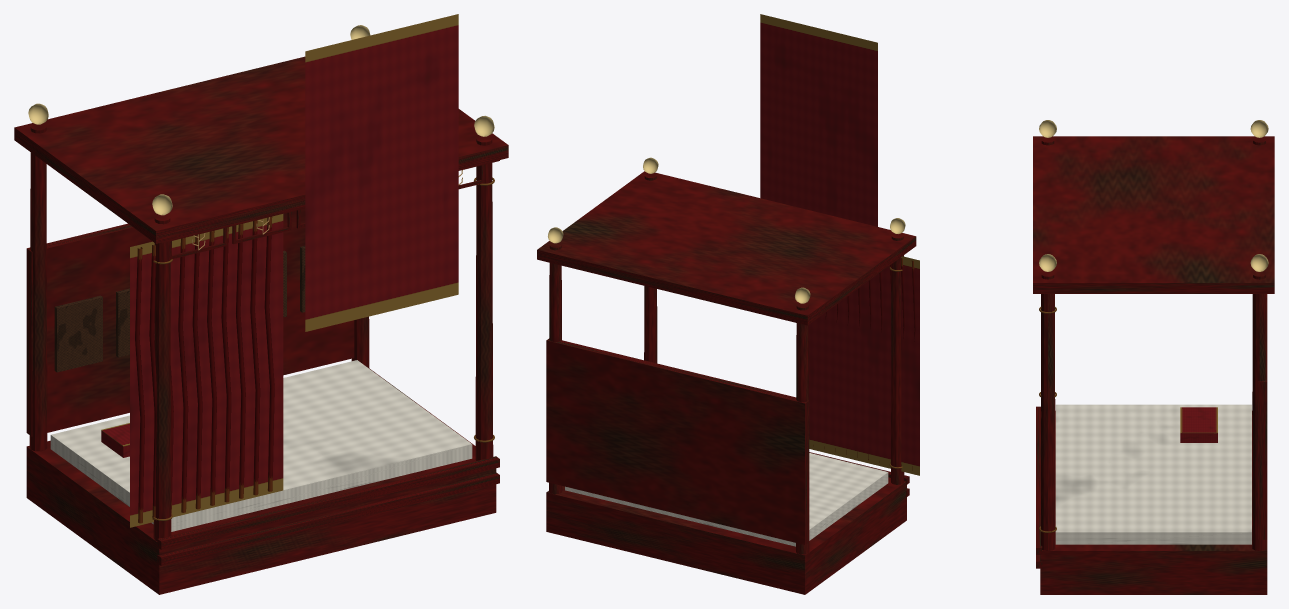
The model's file is bed.glb.
The picture shows the model from 3 angles, left to right: view 1: azimuth 30°, elevation 25°; view 2: azimuth 150°, elevation 25°; view 3: azimuth 270°, elevation 25°; orthographic projection. The views are drawn at different scales.
Visible parts, largest first — view 1: Curtain2, Canopy, Curtain, Mattress, Platform, Backboard, Art_WeddingSilk_Curtain, Art_BurntLacquer, Post_105_70, Post_-105_-70, Post_-105_70, Carve0 (+3 smaller); view 2: Backboard, Canopy, Curtain2, Curtain, Platform, Mattress, Post_-105_70, Post_-105_-70, Post_105_-70, Post_105_70, Art_WeddingSilk_Curtain; view 3: Canopy, Mattress, Platform, Post_105_70, Post_105_-70, Backboard, Pillow, Art_BurntLacquer.
Part boxes in pixels (x1,y1,x2,y2): Curtain2: (305,14,458,331); Canopy: (14,56,508,243); Curtain: (130,214,283,527); Mattress: (50,360,472,531); Platform: (26,368,496,594); Backboard: (26,208,354,436); Art_WeddingSilk_Curtain: (135,216,274,523); Art_BurntLacquer: (157,160,499,565); Post_105_70: (475,139,493,460); Post_-105_-70: (29,127,47,451); Post_-105_70: (153,218,171,540); Carve0: (54,295,102,372); Backboard: (546,338,809,544); Canopy: (537,171,916,325); Curtain2: (760,14,877,226); Curtain: (808,256,919,475); Platform: (546,477,906,594); Mattress: (565,453,888,546); Post_-105_70: (891,236,904,484); Post_-105_-70: (796,306,809,554); Post_105_-70: (549,245,562,494); Post_105_70: (644,176,657,363); Art_WeddingSilk_Curtain: (813,258,915,470); Canopy: (1033,136,1274,293); Mattress: (1055,404,1251,544); Platform: (1040,411,1267,594); Post_105_70: (1041,275,1055,550); Post_105_-70: (1252,275,1266,550); Backboard: (1258,294,1267,539); Pillow: (1180,407,1217,442); Art_BurntLacquer: (1036,406,1042,568).
Size of what is drawn, in the model's own units: 2.4 by 3.5 by 2.16.
Materials: 10 (8 with a texture image).
